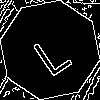L: (25, 25, 74, 78)
